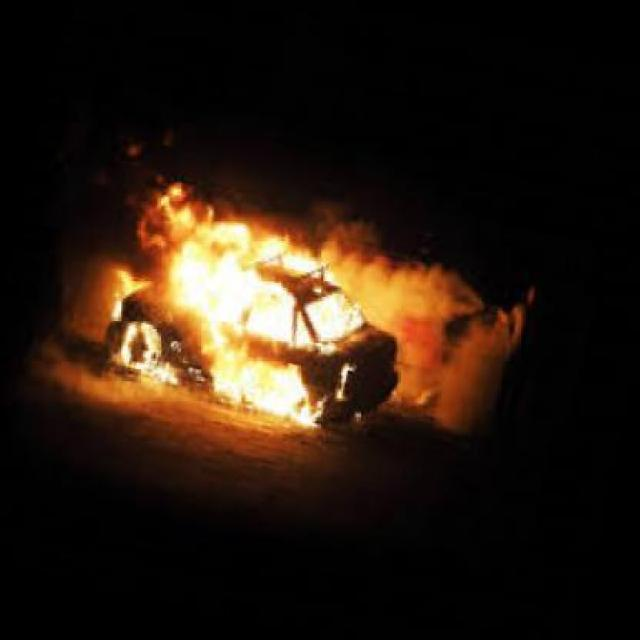Fire: (104, 168, 376, 440)
